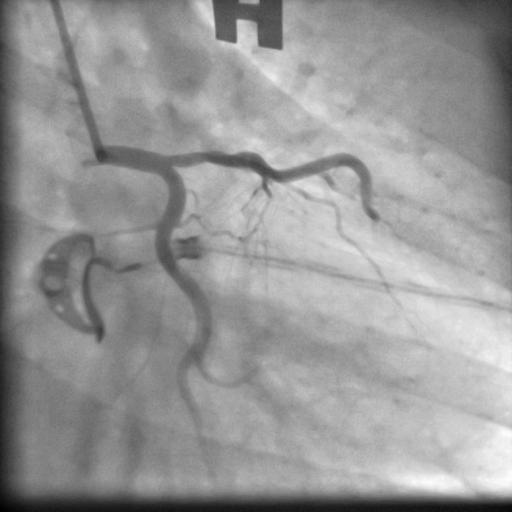Stenosis: (182, 147, 229, 167)
